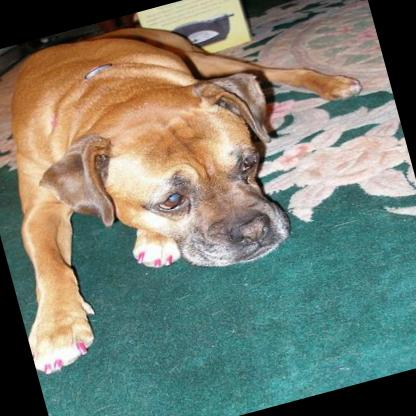boxer: (0, 0, 408, 376)
